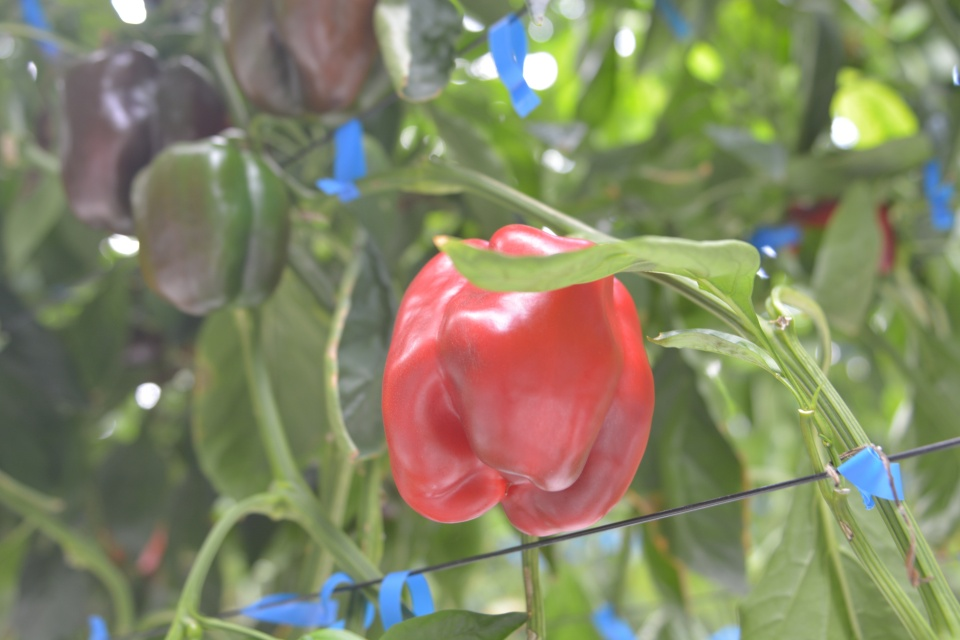fruit: (375, 221, 660, 536), (60, 34, 231, 239), (127, 127, 293, 316), (224, 0, 368, 122)
